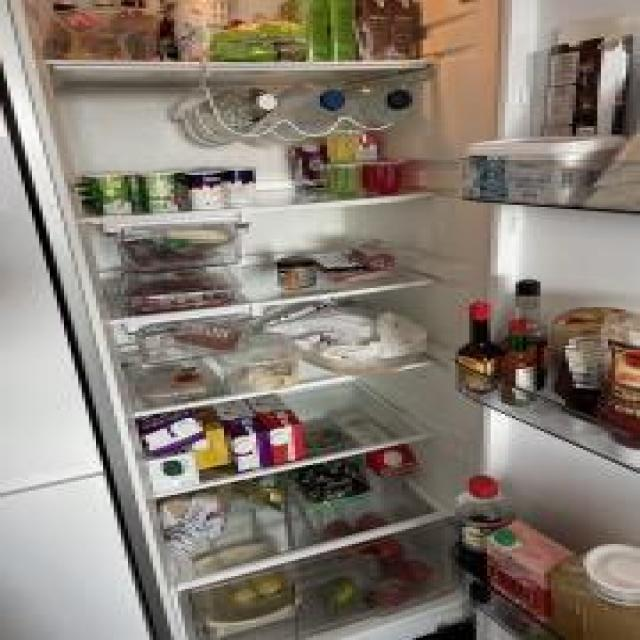bread: (160, 495, 235, 548)
butter: (468, 140, 610, 202)
milk: (212, 404, 272, 469), (249, 396, 309, 458), (147, 453, 201, 494), (148, 415, 205, 449)
salad: (233, 479, 290, 513)
tomato: (372, 584, 411, 611), (373, 539, 402, 562), (402, 560, 430, 581), (320, 522, 356, 538), (359, 518, 388, 532)
yogurt: (162, 0, 229, 62), (178, 170, 231, 210), (85, 175, 135, 215), (135, 173, 185, 213), (219, 168, 261, 205)
